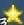star: (1, 0, 24, 25)
